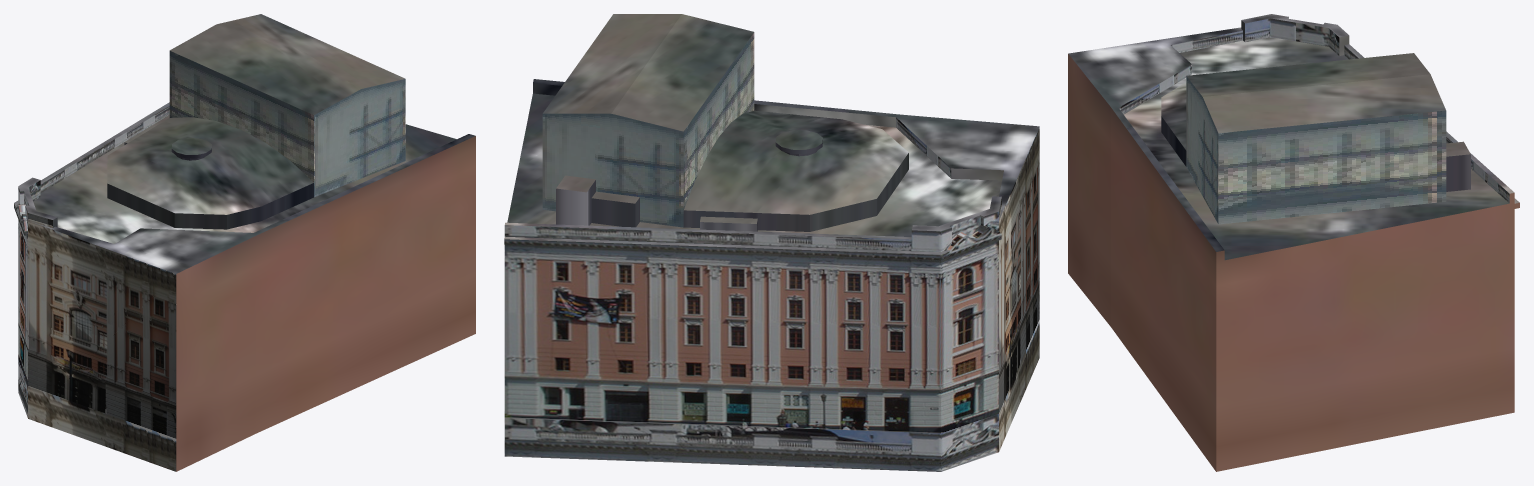
Rendered from centro+financiero+la+ermita+y+teatro+joge+isaacs+(cali).fbx.
3 renders of one model, left to right at view 1: azimuth 30°, elevation 25°; view 2: azimuth 150°, elevation 25°; view 3: azimuth 270°, elevation 25°, orthographic. The views are drawn at different scales.
Visible parts, largest first — view 1: Model; view 2: Model; view 3: Model.
Part boxes in pixels (<box>): Model: <box>14,14,475,471</box>; Model: <box>504,14,1039,471</box>; Model: <box>1068,14,1519,471</box>.
Size of the model in its own units: 4964 by 3102 by 4104.
